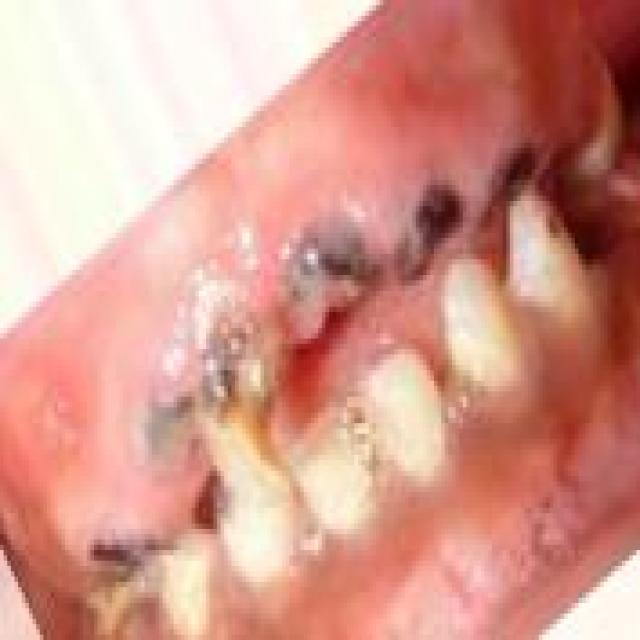caries: (163, 296, 290, 498), (278, 209, 382, 346), (94, 524, 201, 640), (386, 177, 466, 294)
